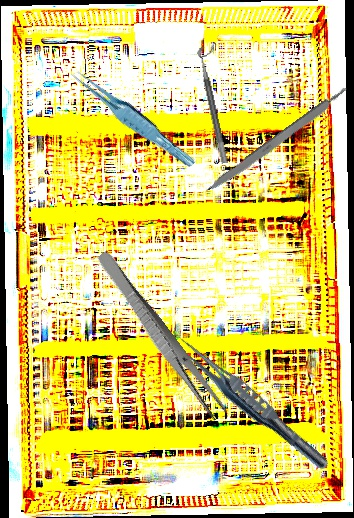Dressing Forceps: (91, 248, 230, 423)
Fixation Ring: (196, 45, 238, 164)
Scalpel Handle: (203, 84, 353, 198)
Tissue Forceps: (166, 330, 337, 476), (67, 57, 198, 178)
